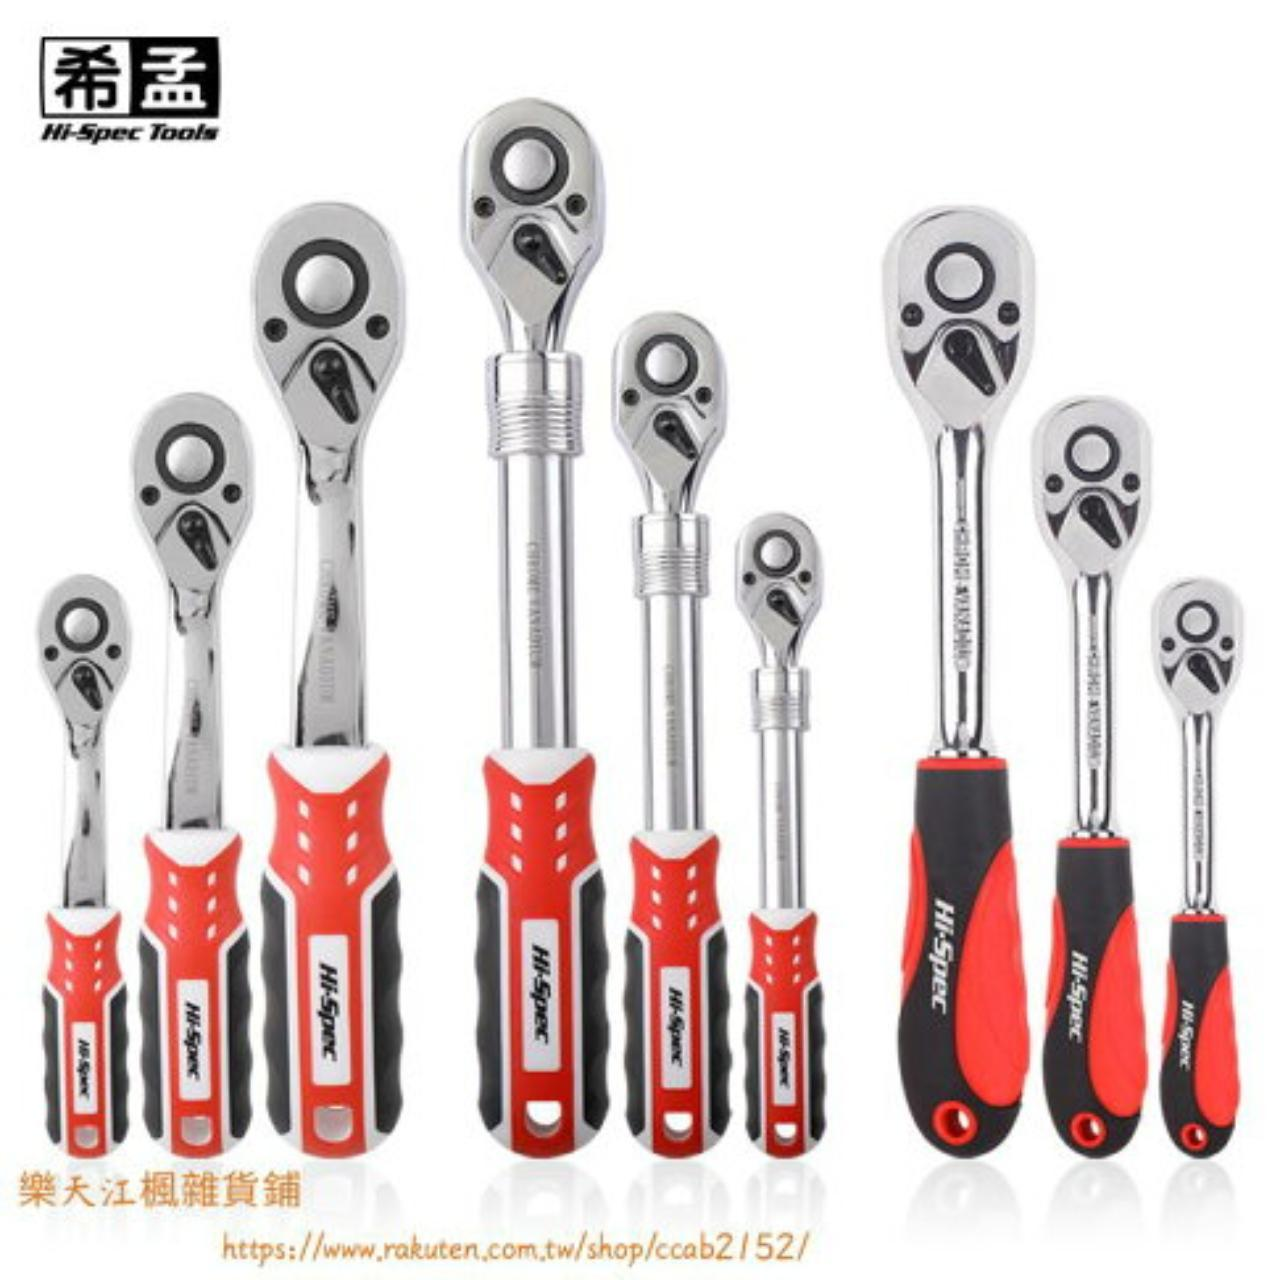Tool: (246, 199, 414, 492), (459, 95, 605, 355), (884, 202, 1032, 427), (130, 390, 256, 620), (613, 306, 735, 526), (1036, 394, 1148, 580), (35, 570, 132, 754), (730, 509, 830, 666), (1150, 571, 1246, 719)
